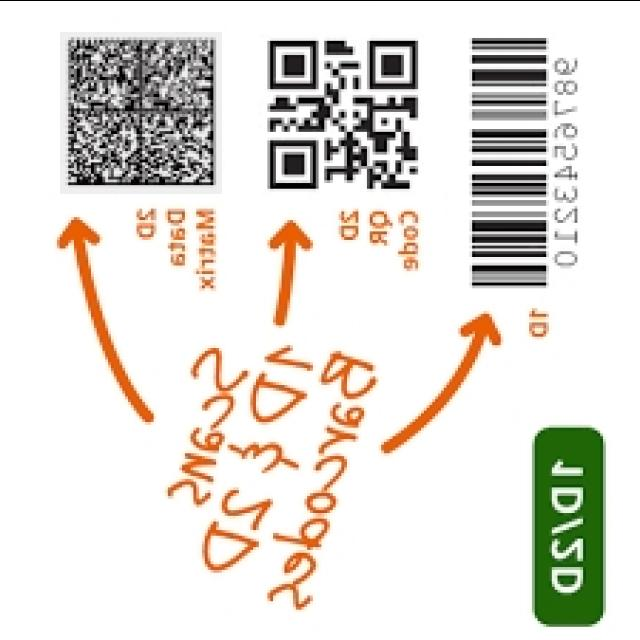DataMatrix: (60, 32, 222, 194)
